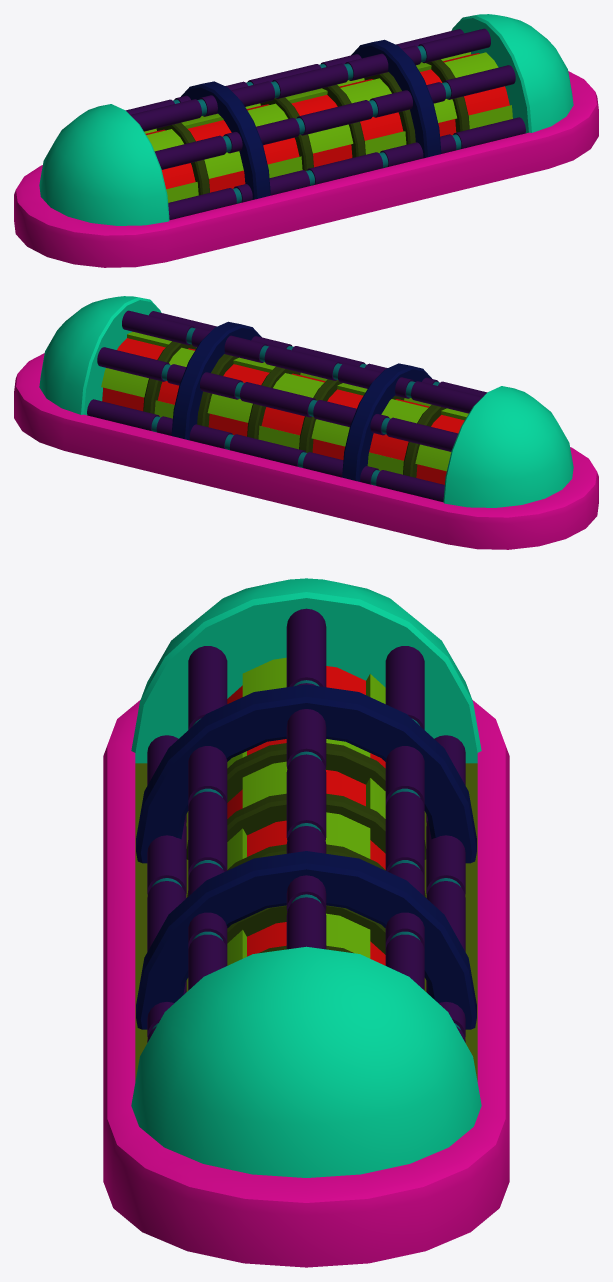
File: OBJ_Generateur_Arc.fbx
3 views of the same model, one above another, from view 1: azimuth 30°, elevation 25°; view 2: azimuth 150°, elevation 25°; view 3: azimuth 270°, elevation 25° (orthographic). The views are drawn at different scales.
Parts seen in each view (by area): view 1: OBJ_Generateur_Arc; view 2: OBJ_Generateur_Arc; view 3: OBJ_Generateur_Arc.
Part boxes in pixels (box(x1,y1,x2,y2)): OBJ_Generateur_Arc: box(14, 14, 598, 267); OBJ_Generateur_Arc: box(14, 296, 598, 549); OBJ_Generateur_Arc: box(103, 578, 509, 1267).
Bounding box in the file's own units: 1040 × 200 × 327.
